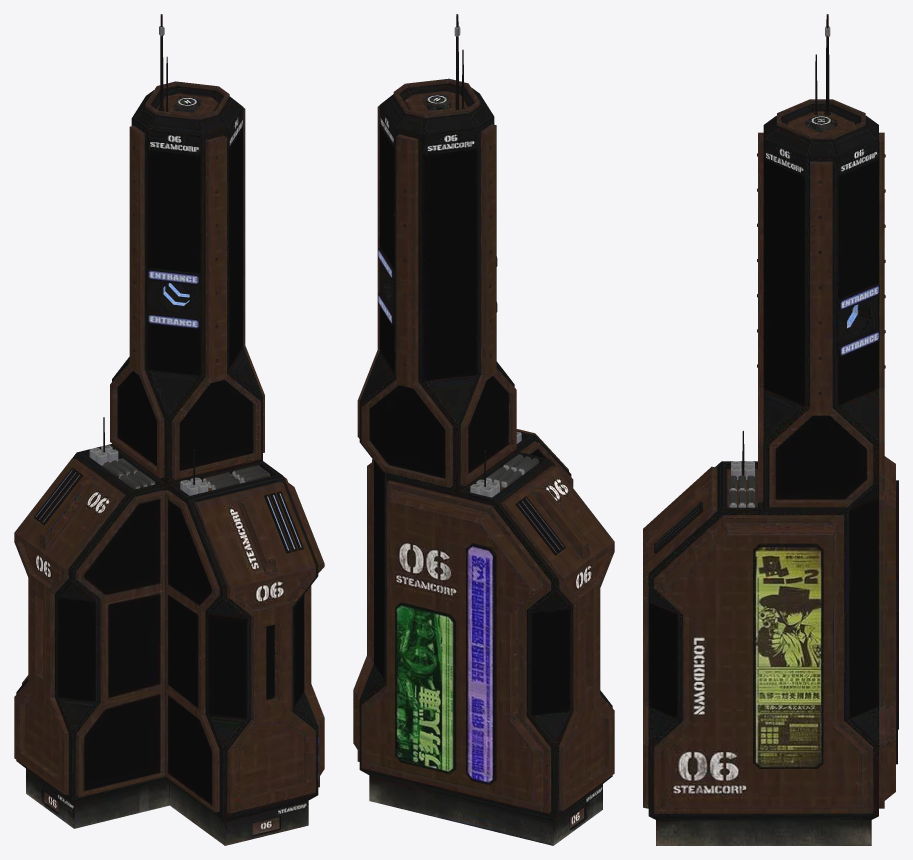
Rendered from sci-fi-building-9_1.glb.
3 views of the same model, side by side, from view 1: azimuth 30°, elevation 25°; view 2: azimuth 150°, elevation 25°; view 3: azimuth 270°, elevation 25° (orthographic). The views are drawn at different scales.
Parts seen in each view (by area): view 1: 1K_scifi_building_06.004; view 2: 1K_scifi_building_06.004; view 3: 1K_scifi_building_06.004.
Boxes of the visible parts, <box> form: 1K_scifi_building_06.004: <box>14,14,324,845</box>; 1K_scifi_building_06.004: <box>353,14,614,845</box>; 1K_scifi_building_06.004: <box>643,14,898,845</box>.
Bounding box in the file's own units: 138 × 477 × 138.
1 material, 1 textured.
